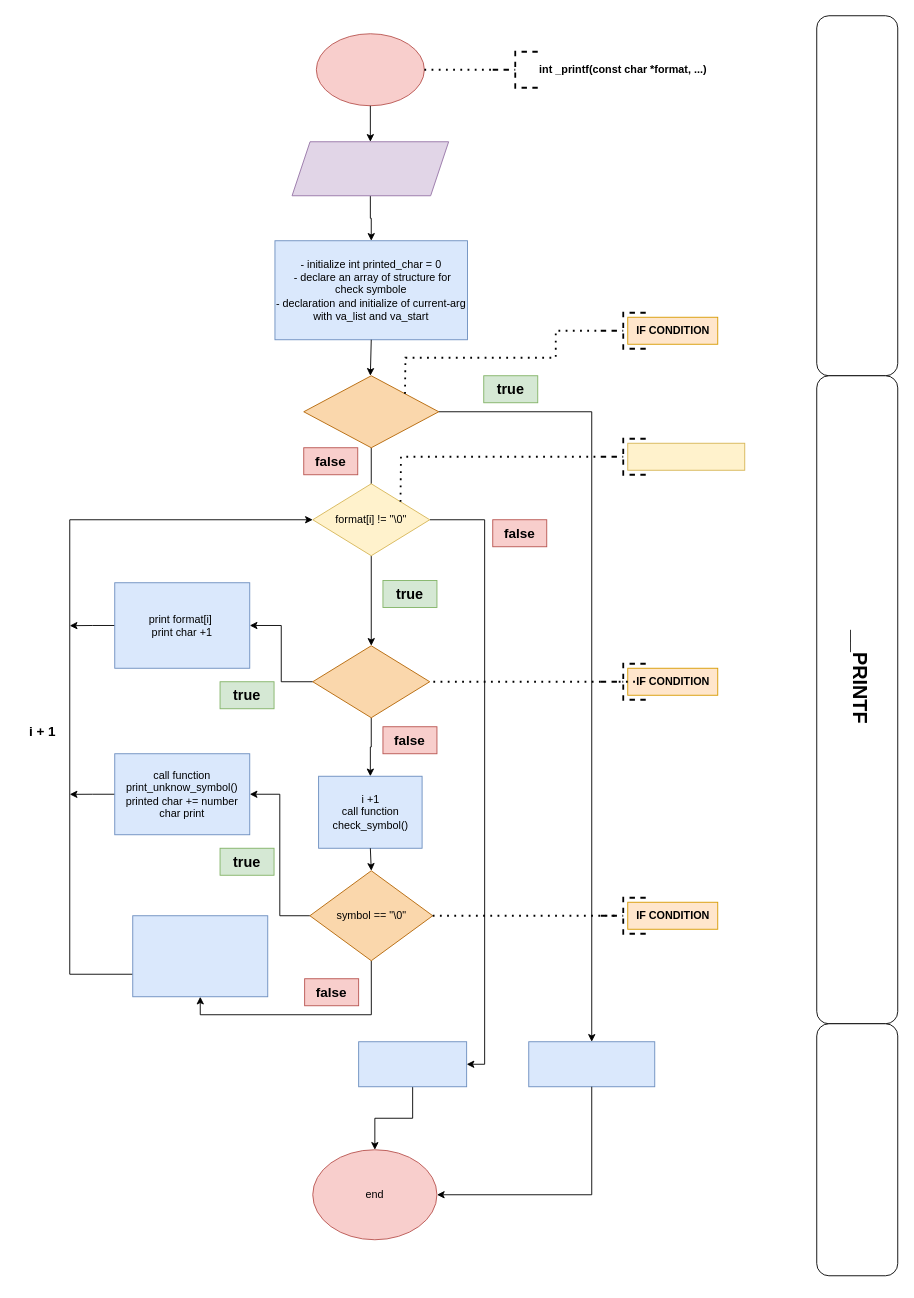
Some shapes in this 914 by 1298 pixel diagram are drawn without their labels. The shapes that lost their labels are listed below. From the top down, each one's centre as x and y in pixels, then its label:
point 369,69: START
point 370,168: input: const char *format (opt°): variable argument #include "main.h"
point 857,195: INITIALIZE
point 371,411: format == NULL or format == "%"
point 686,456: WHILE CONDITION
point 371,681: format[i] != "%"
point 200,956: print value of matching variable printed char += number char print
point 412,1064: va_end current_arg return : printed_char
point 591,1064: va_end current_arg return (-1)
point 857,1149: OUTPUT
